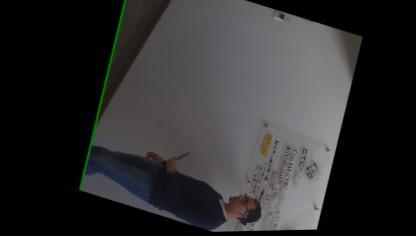knife: (163, 145, 190, 169)
